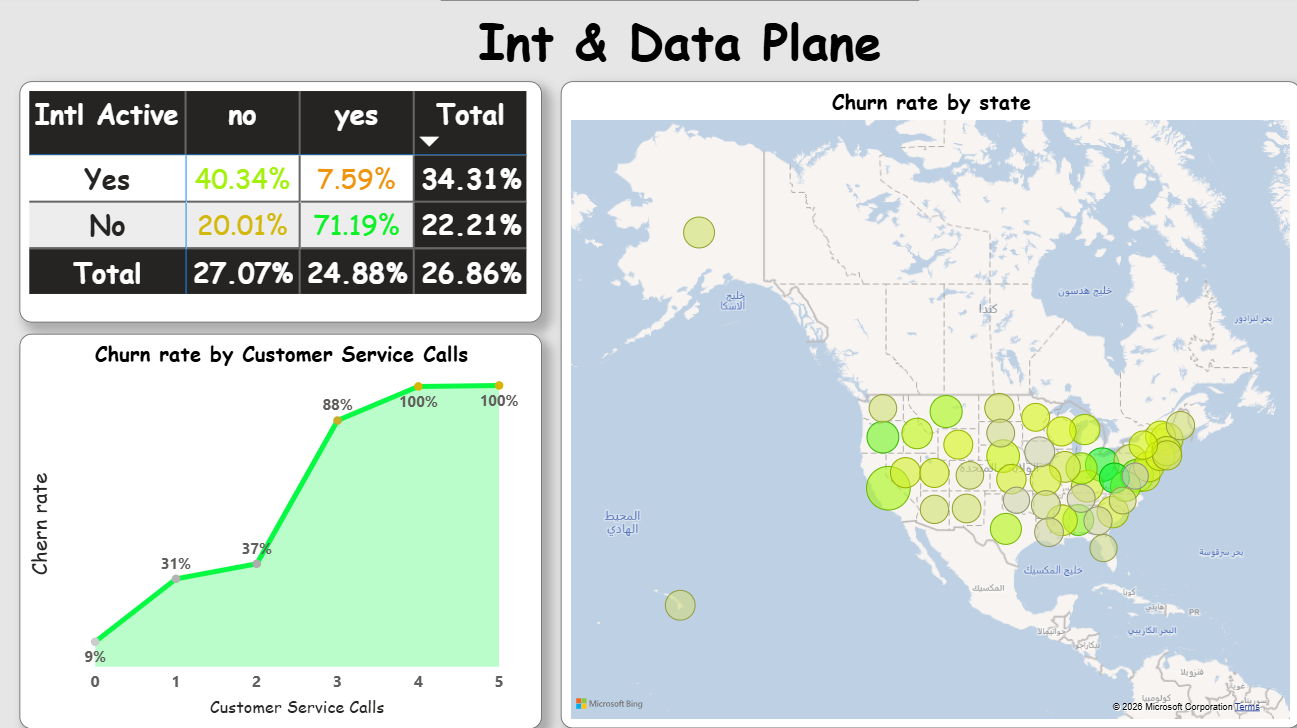

What the dashboard file says about the page in this screenshot:
{"tool":"powerbi","page":{"name":"Int & Data Plane","canvas":[1280,720],"ordinal":2},"visuals":[{"type":"textbox","box":[435.6,0,469.9,84.7],"z":0},{"type":"map","title":"Churn rate by state","fields":{"Category":["Databel - Data.State"],"Size":["_Mesusres.Chern rate"]},"box":[553.4,84.7,726.4,635.6],"z":1000},{"type":"pivotTable","fields":{"Rows":["Databel - Data.Intl Active"],"Columns":["Databel - Data.Intl Plan"],"Values":["_Mesusres.Chern rate"]},"box":[22.1,84.7,512.9,236.8],"z":2000},{"type":"lineChart","title":"Churn rate by Customer Service Calls","fields":{"Category":["Databel - Data.Customer Service Calls"],"Y":["_Mesusres.Chern rate"]},"box":[22.1,332.5,512.9,387.7],"z":3000}]}

Visuals, with their boxes in screenshot pixels (x1, y1, x2, y2), scaled from the page's 1280x720 canvas onto the 1297x728 screenshot:
textbox: BBox(441, 0, 918, 86)
"Churn rate by state" map: BBox(561, 86, 1296, 727)
pivotTable - Databel - Data.Intl Active x Databel - Data.Intl Plan: BBox(22, 86, 542, 325)
"Churn rate by Customer Service Calls" lineChart: BBox(22, 336, 542, 727)
